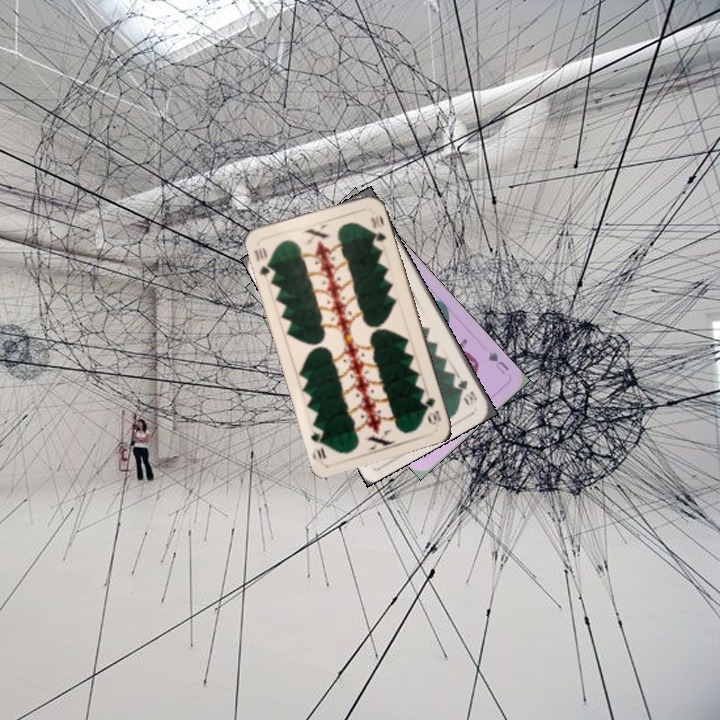G10: (250, 243, 277, 280), (420, 393, 444, 428), (454, 376, 480, 407)
GU: (484, 347, 512, 377)
